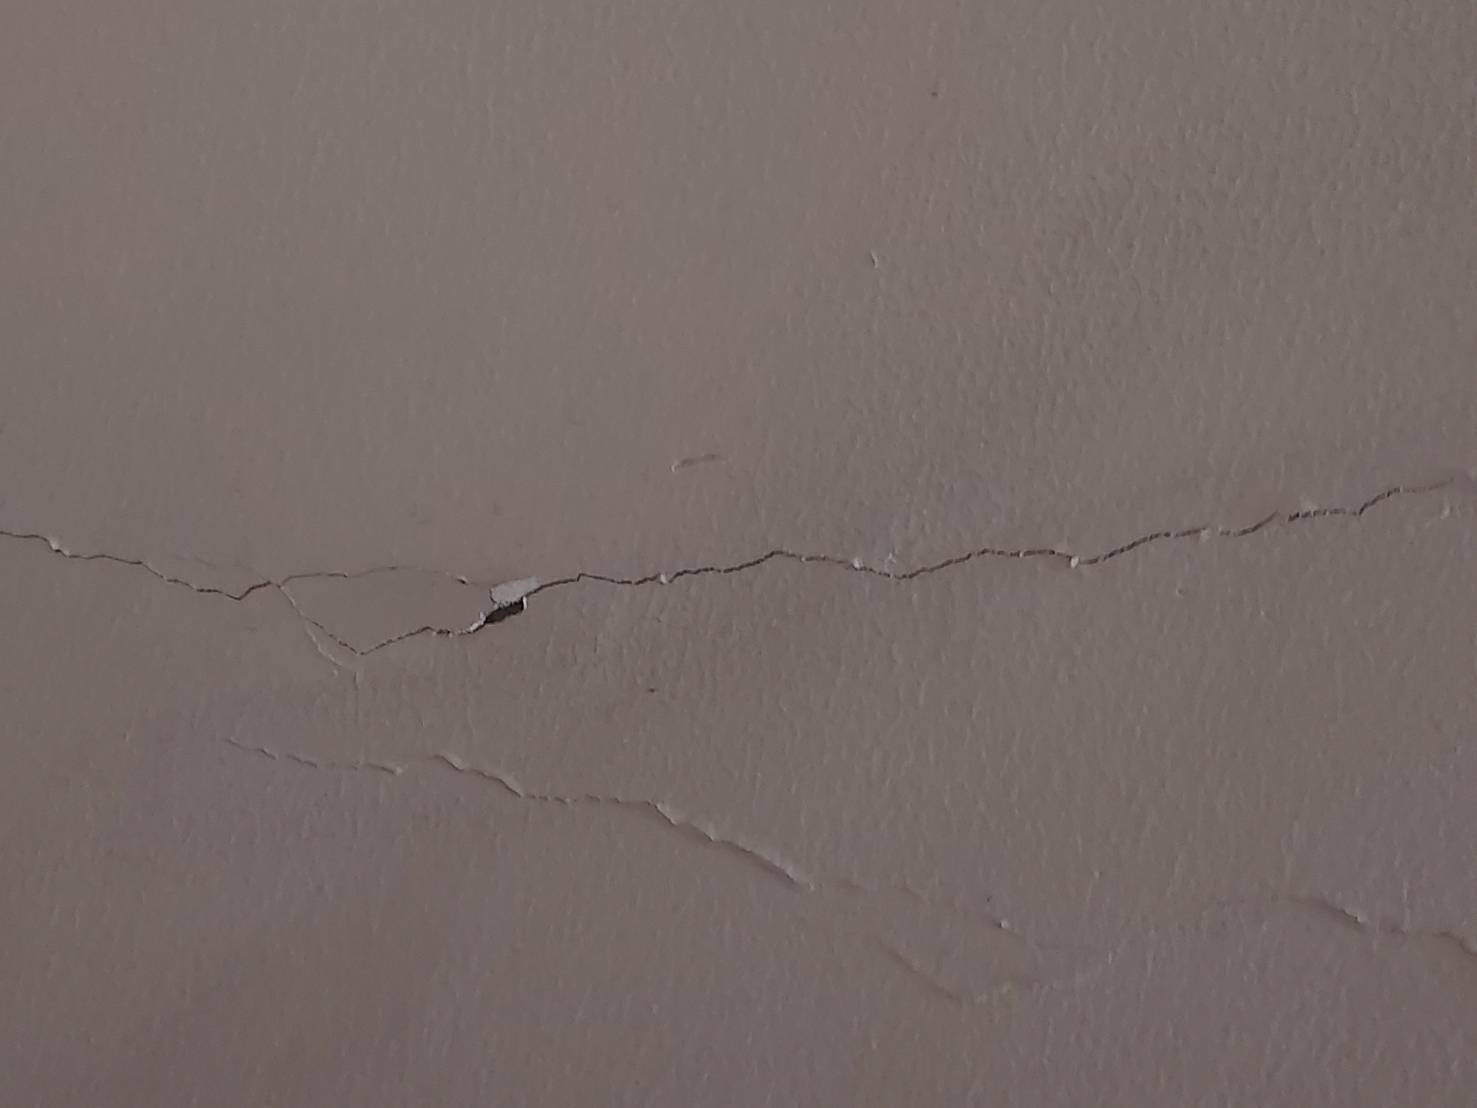Low: (1, 470, 1477, 649)
